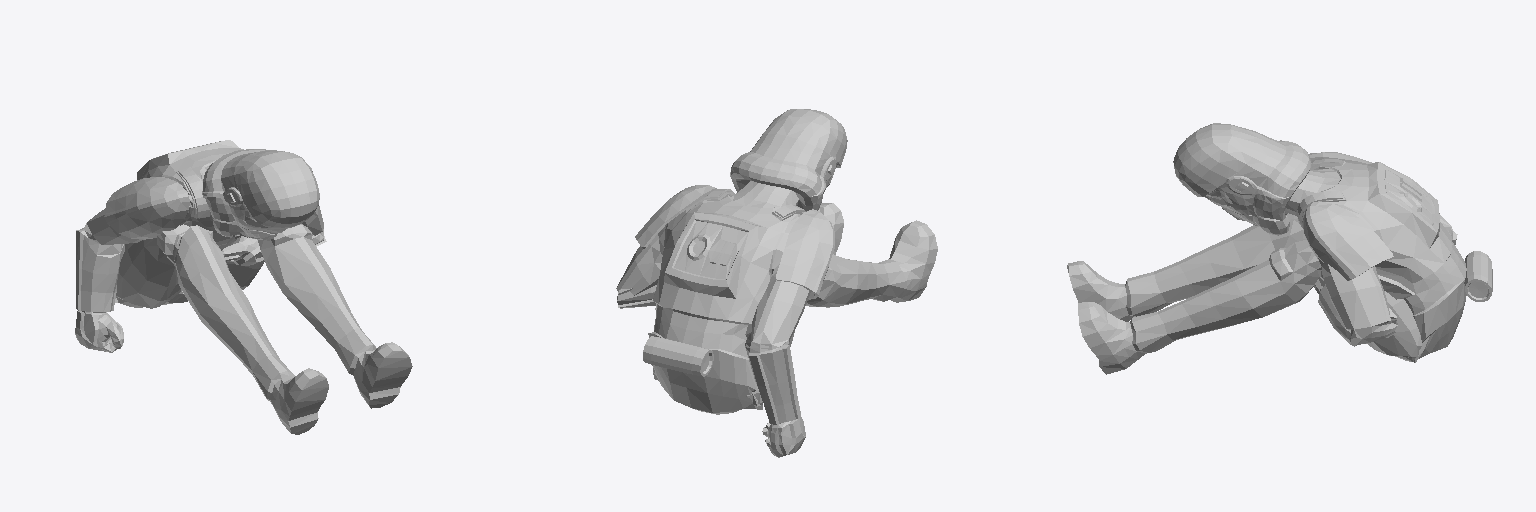
File: Dead60.obj
3 renders of one model, left to right at view 1: azimuth 30°, elevation 25°; view 2: azimuth 150°, elevation 25°; view 3: azimuth 270°, elevation 25°, orthographic.
Visible parts, largest first — view 1: Stormtrooper.001_Stormtrooper; view 2: Stormtrooper.001_Stormtrooper; view 3: Stormtrooper.001_Stormtrooper.
Boxes of the visible parts, x1,y1,x2,y2 form: Stormtrooper.001_Stormtrooper: [75, 140, 412, 434]; Stormtrooper.001_Stormtrooper: [616, 109, 937, 457]; Stormtrooper.001_Stormtrooper: [1067, 123, 1492, 374].
Bounding box in the file's own units: 1.37 × 1.52 × 2.39.